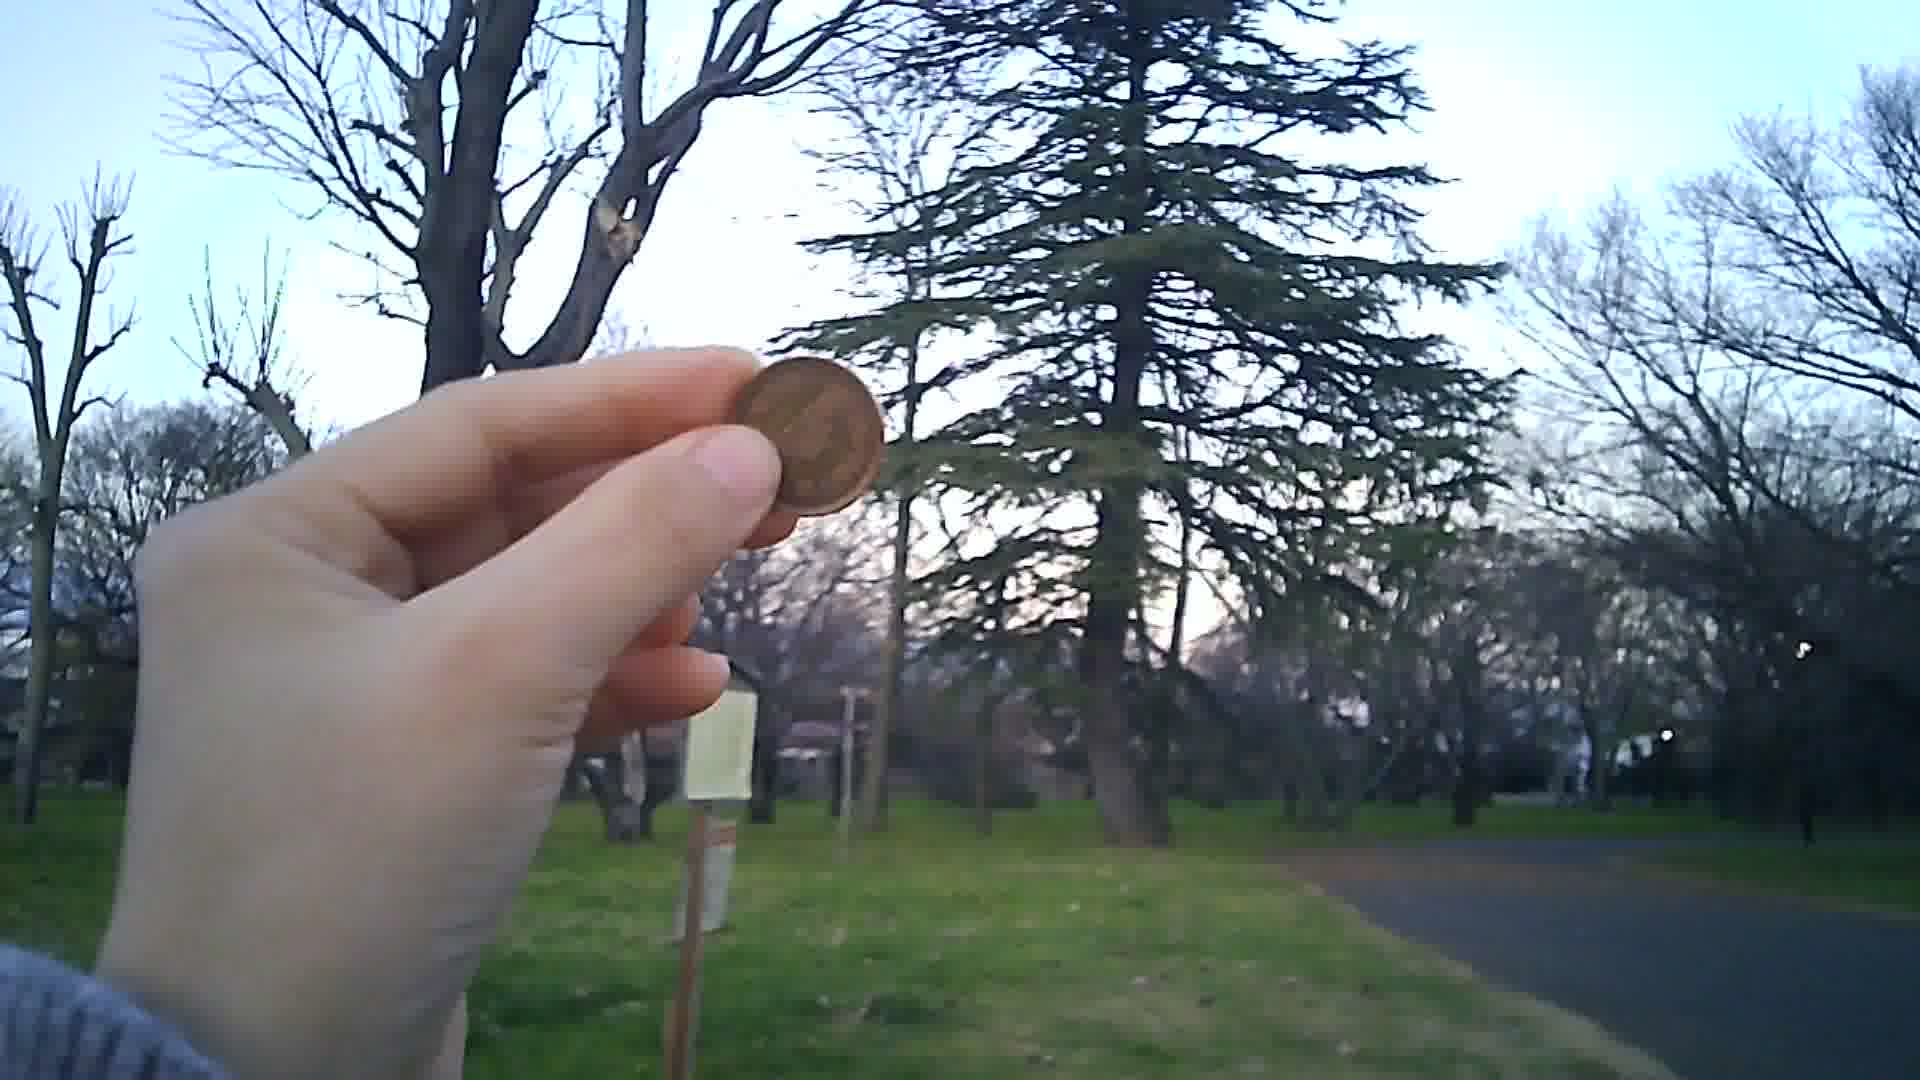10 Yen: (727, 353, 886, 520)
